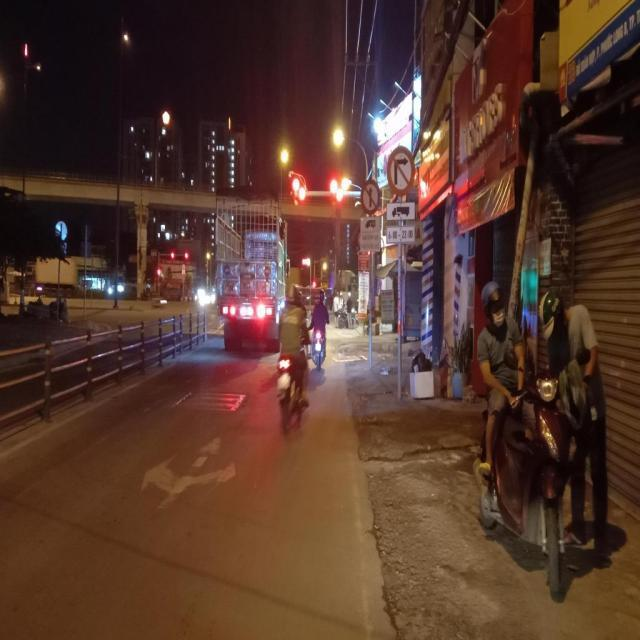123b-cam-re-phai: (387, 145, 415, 194)
136-cam-di-thang: (361, 178, 382, 214)
